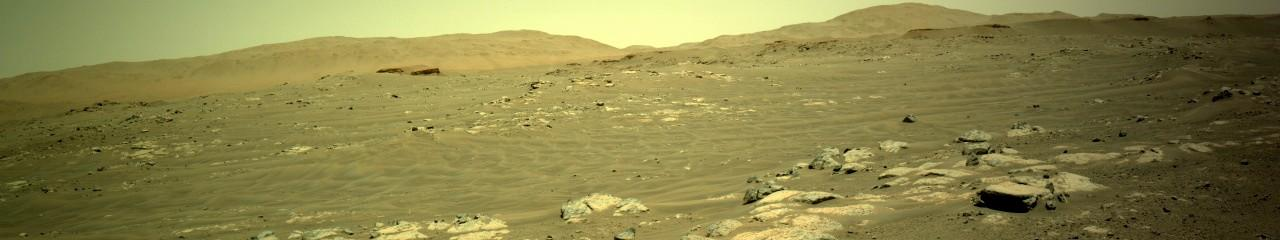bedrock: (19, 15, 1279, 202), (678, 77, 1272, 239), (266, 189, 665, 235), (4, 121, 13, 202), (945, 114, 1011, 119), (1276, 163, 1278, 179), (1014, 113, 1021, 116), (868, 96, 880, 97)
big_rock: (206, 235, 675, 239)
sand: (23, 5, 1185, 99), (12, 210, 95, 226), (772, 145, 813, 160), (953, 117, 1012, 125), (824, 130, 858, 141), (897, 121, 939, 124), (1025, 113, 1053, 117), (595, 187, 604, 188)
soil: (122, 79, 506, 142), (968, 51, 1142, 66), (1259, 32, 1279, 130), (74, 227, 202, 236), (1161, 49, 1204, 73), (945, 236, 1273, 239), (8, 100, 56, 119), (1272, 181, 1275, 234), (1199, 96, 1226, 99), (9, 203, 18, 210), (1273, 143, 1276, 156)
